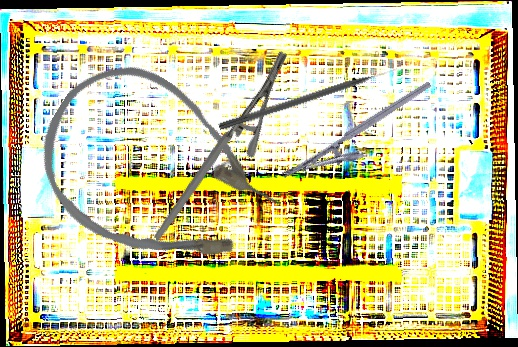Cannula: (12, 39, 304, 309)
Needle Holder: (109, 48, 331, 242), (280, 80, 445, 199)
Pusher: (218, 65, 399, 133)
